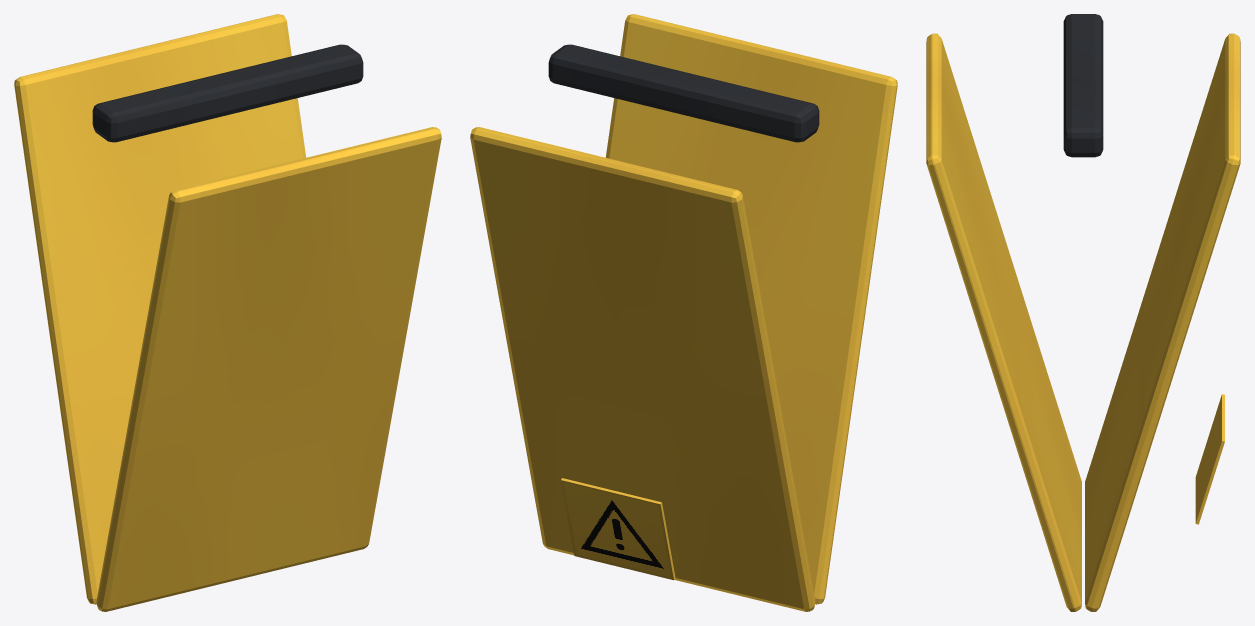
The model's file is SW_SlipperySign.glb.
3 renders of one model, left to right at view 1: azimuth 30°, elevation 25°; view 2: azimuth 150°, elevation 25°; view 3: azimuth 270°, elevation 25°, orthographic. The views are drawn at different scales.
Parts seen in each view (by area): view 1: Sign; view 2: Sign; view 3: Sign.
Part boxes in pixels (left/top/right/bottom): Sign: left=14, top=14, right=441, bottom=611; Sign: left=470, top=14, right=897, bottom=611; Sign: left=926, top=14, right=1240, bottom=611.
Bounding box in the file's own units: 0.38 × 0.6675 × 0.3962.
Materials: 1 (1 with a texture image).
